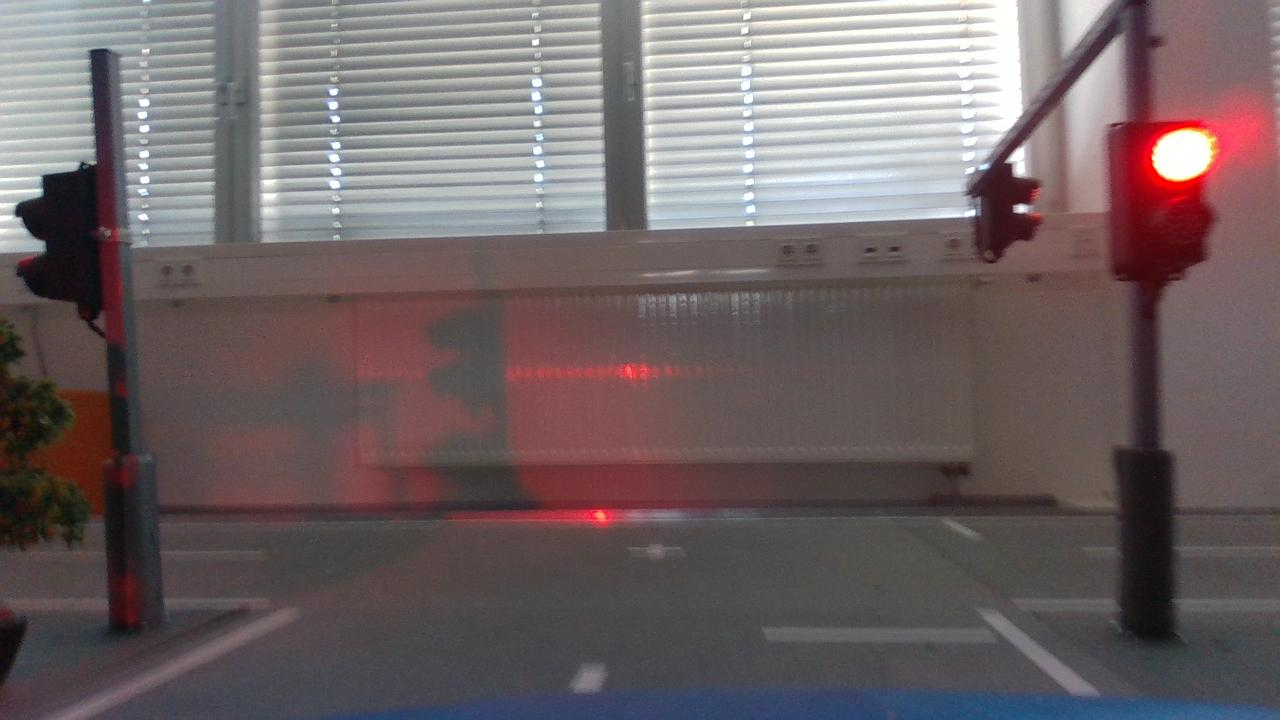traffic_light_red: (1097, 113, 1231, 298)
